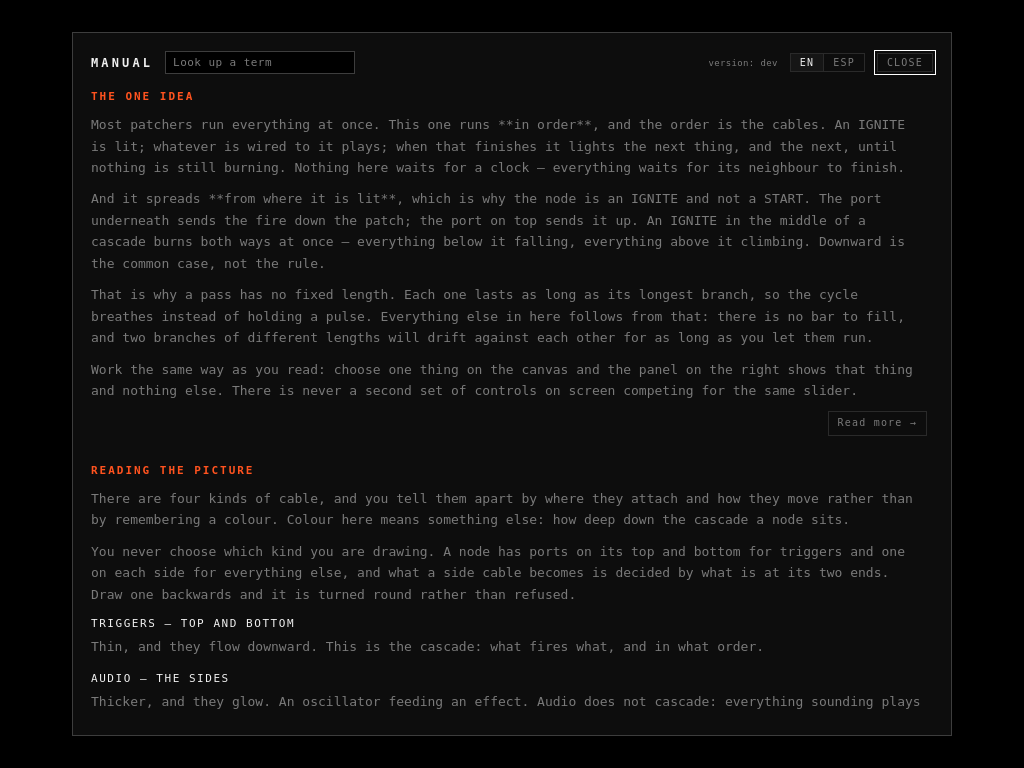
it: searching the manual › offers somewhere to look when nothing is named that
Type "darker" into the search field named "Search the manual".
click(260, 62); type("darker")  # box [165,51,355,74]
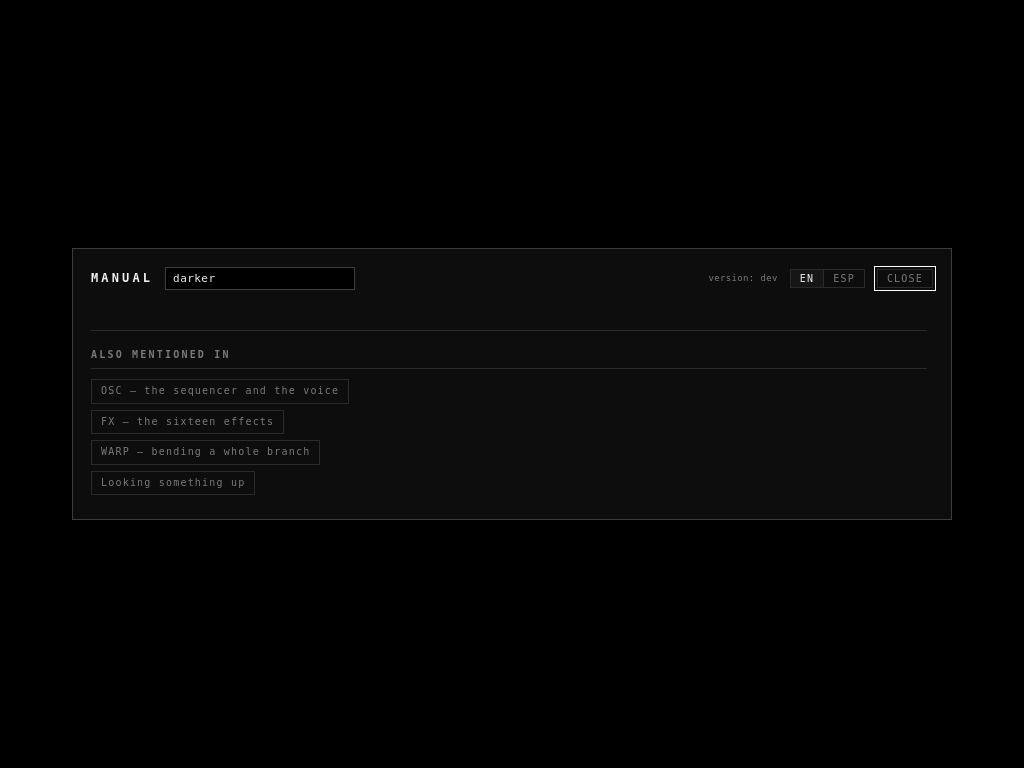
Check: the heading "Also mentioned in" is shown, box [91,347,927,369]
